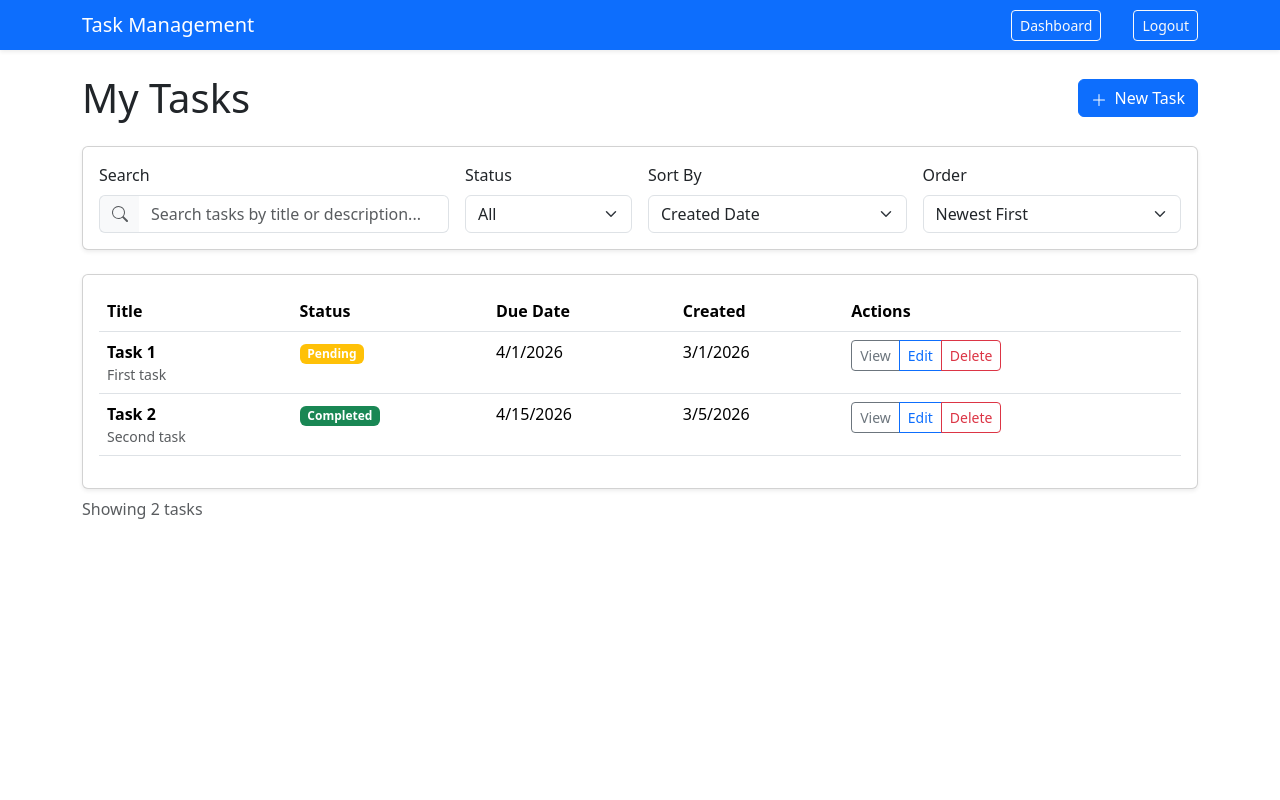
Test: TasksPage › should open edit modal when Edit button is clicked
Expected: the text "Task 1" is shown, [107,341,156,363]
Step 1. Click the button with aria-label "Edit Task 1" → (920, 356), box [899,340,942,371]
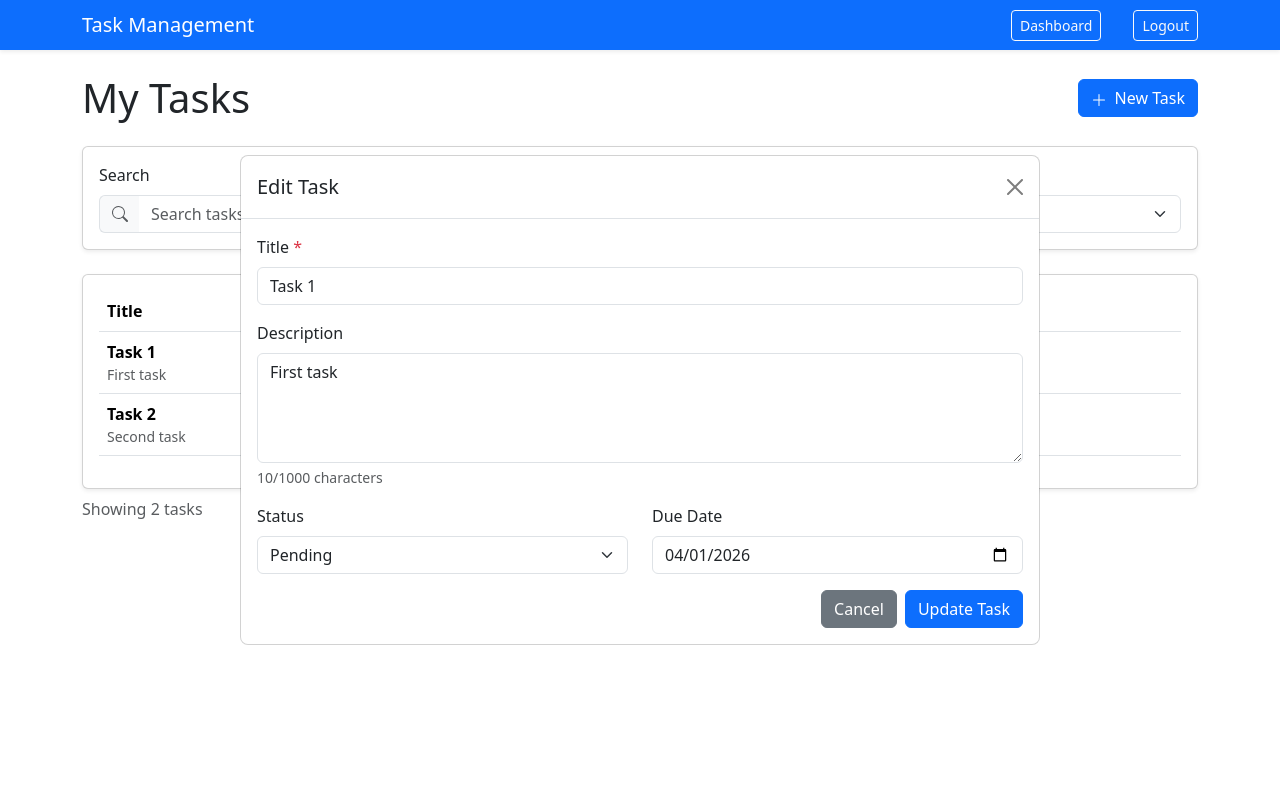
Expected: the heading "Edit Task" is shown, [257,172,339,202]
